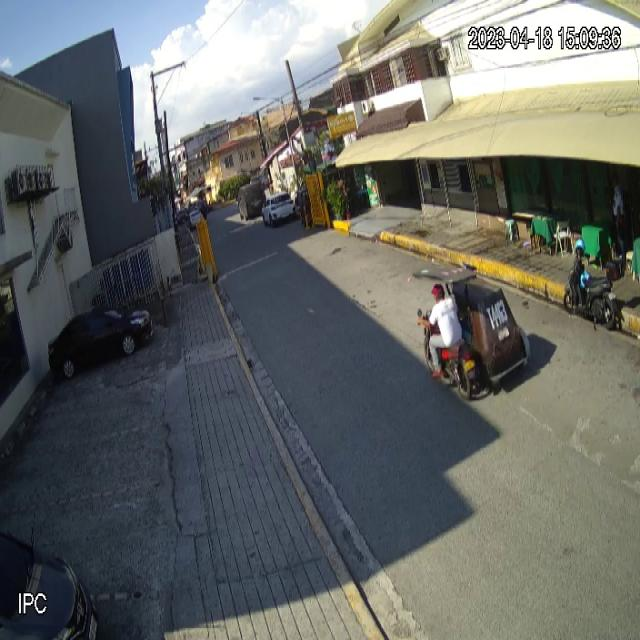Car: (48, 306, 154, 380)
Tricycle: (412, 264, 531, 401), (562, 251, 626, 331)
